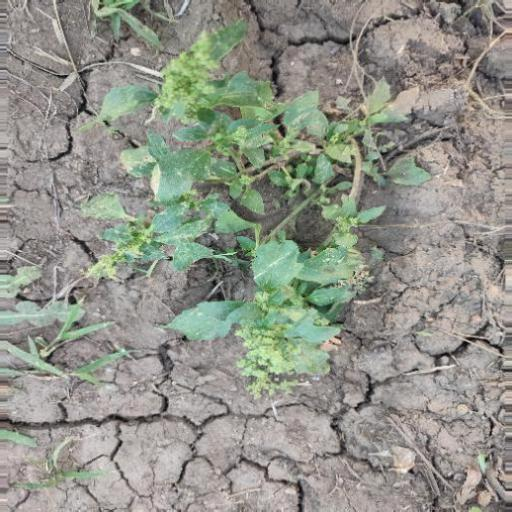weed: (69, 65, 416, 402)
